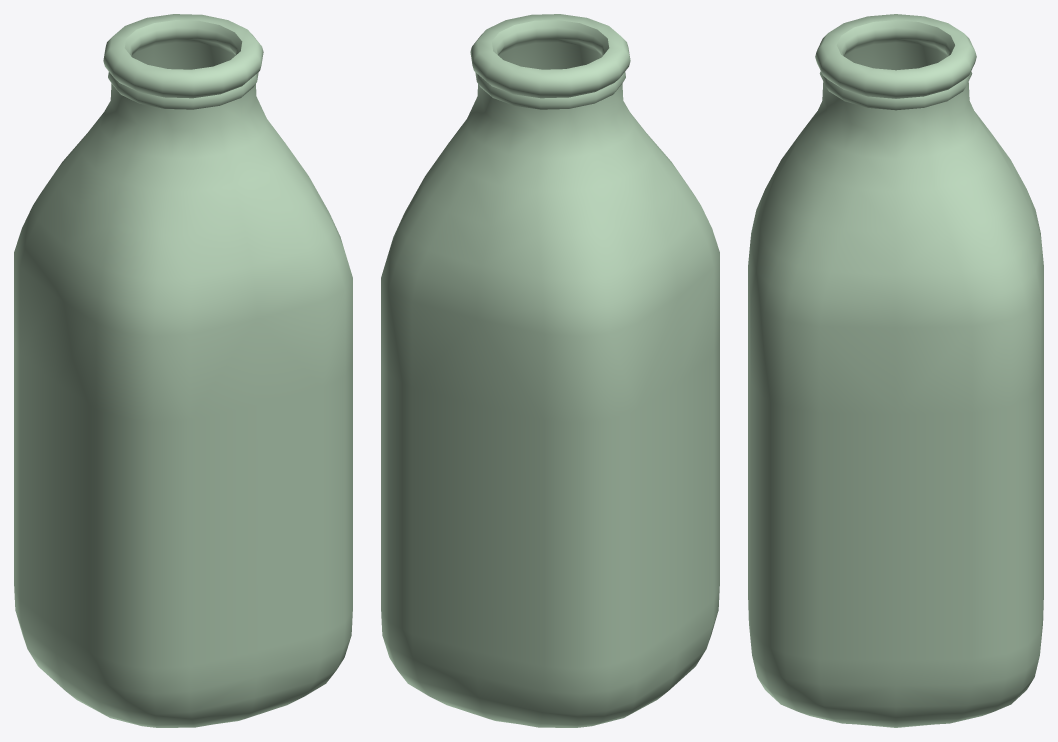
Rendered from Bottle.fbx.
The picture shows the model from 3 angles, left to right: view 1: azimuth 30°, elevation 25°; view 2: azimuth 150°, elevation 25°; view 3: azimuth 270°, elevation 25°; orthographic projection.
Parts seen in each view (by area): view 1: c_madmilk; view 2: c_madmilk; view 3: c_madmilk.
Boxes of the visible parts, x1,y1,x2,y2 form: c_madmilk: (14, 14, 352, 727); c_madmilk: (381, 14, 719, 727); c_madmilk: (748, 14, 1043, 727).
Bounding box in the file's own units: 440 × 1049 × 440.
